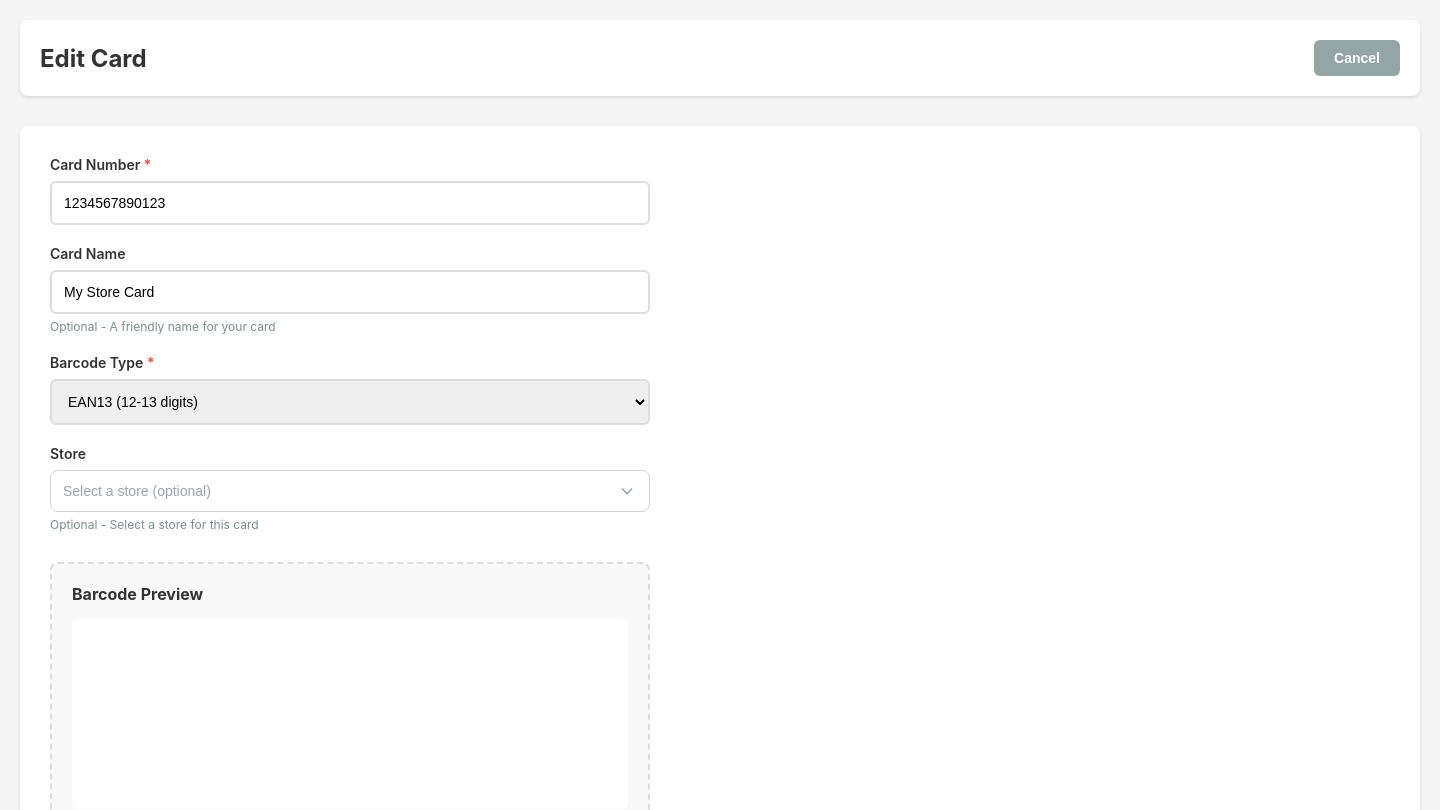
Test: EditCardView - US-5.1: Edit Existing Card › Form Validation › should validate required card number field
The width and height of the screenshot is (1440, 810).
# Clear card number
Clear the field with id "cardNumber" at (350, 203), box top-left (50, 181), bottom-right (650, 225)
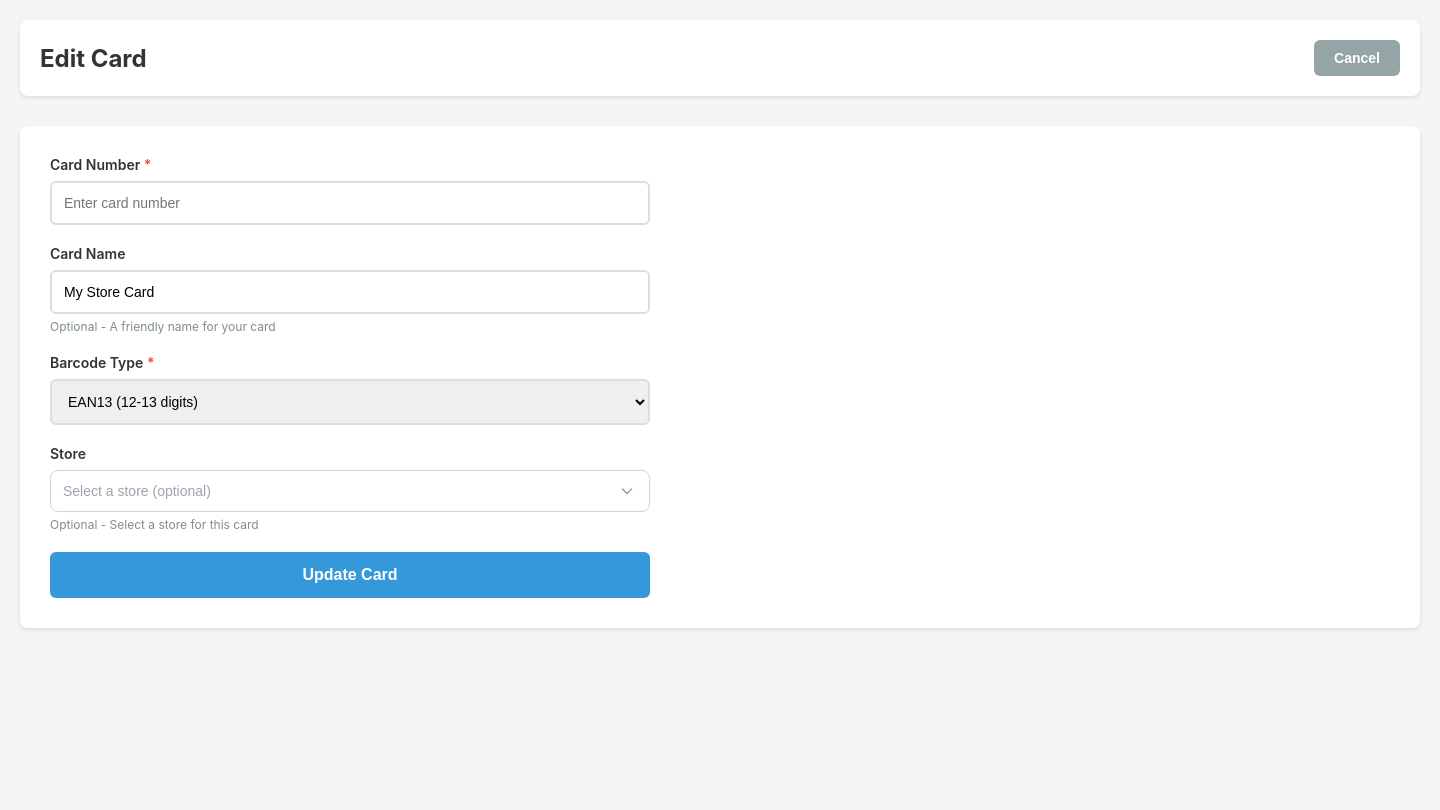
Leave the field with id "cardNumber", box top-left (50, 181), bottom-right (650, 225)
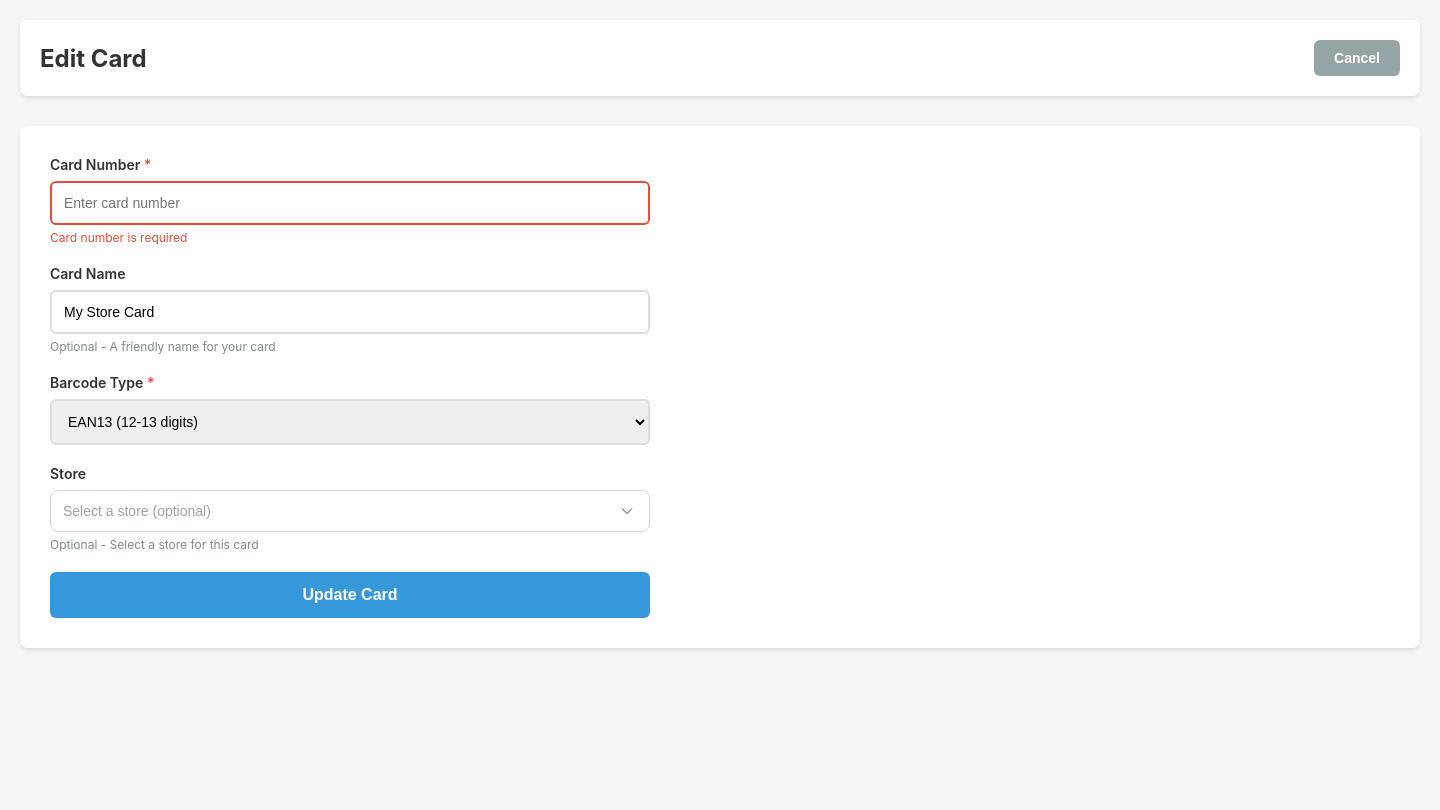
Expected: the text with class "error-message" reads "Card number is required", top-left (50, 230), bottom-right (187, 245)
